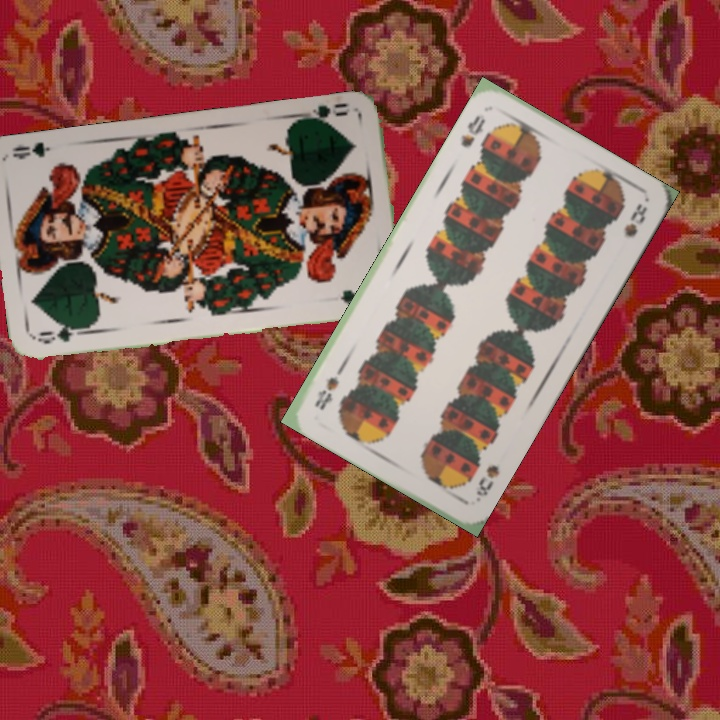GO: (297, 98, 353, 128), (33, 319, 93, 347)
S8: (471, 460, 503, 505), (457, 110, 488, 150)
